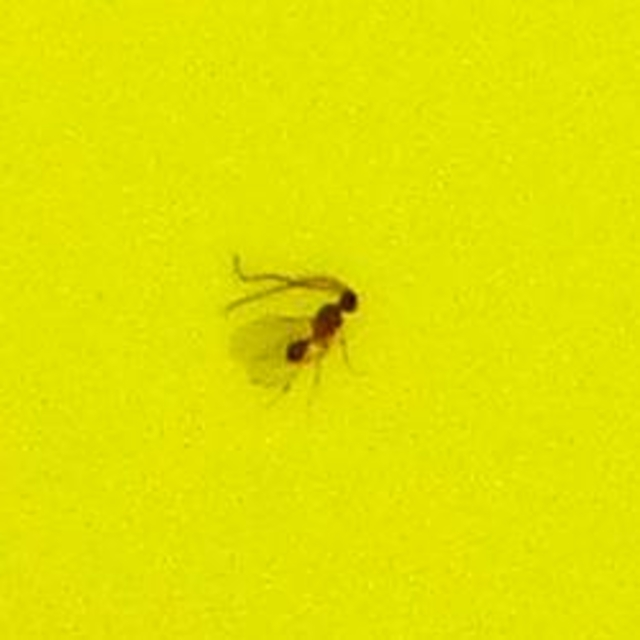Hymenoptera: (256, 256, 384, 384)
